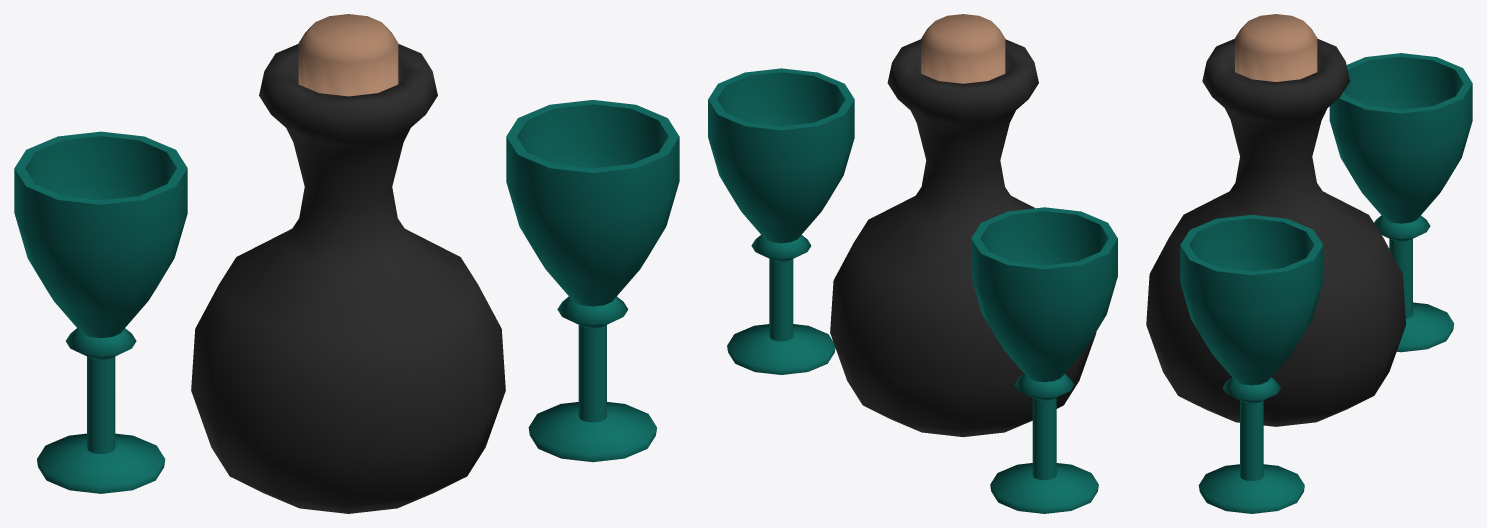
File: DI_100_bottle_glasses.glb
3 renders of one model, left to right at view 1: azimuth 30°, elevation 25°; view 2: azimuth 150°, elevation 25°; view 3: azimuth 270°, elevation 25°, orthographic. The views are drawn at different scales.
Visible parts, largest first — view 1: Bottle, Glass, Glass.001; view 2: Bottle, Glass.001, Glass; view 3: Bottle, Glass, Glass.001.
Part boxes in pixels (box(x1,y1,x2,y2)): Bottle: box(191, 14, 505, 513); Glass: box(506, 100, 679, 462); Glass.001: box(14, 131, 187, 493); Bottle: box(830, 14, 1096, 437); Glass.001: box(971, 207, 1117, 513); Glass: box(708, 68, 854, 374); Bottle: box(1146, 14, 1405, 426); Glass: box(1180, 214, 1323, 513); Glass.001: box(1329, 53, 1472, 352).
Size of the model in its own units: 0.8756 by 0.6838 by 0.5438.
